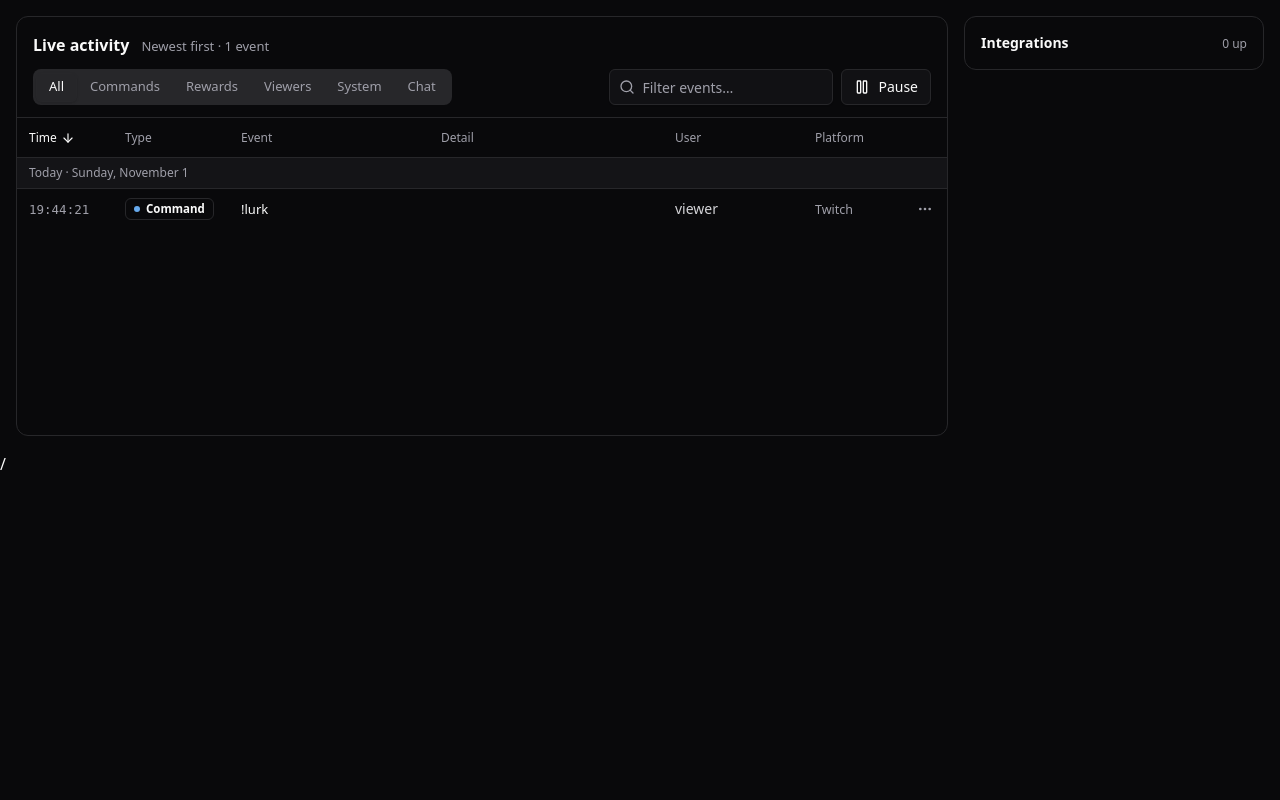
Live activity › opens History on an entry's viewer
What coordinates should you click on to do the following:
click the text "!lurk"
I would click on:
 (255, 209)
Its box is [241,200,268,218].
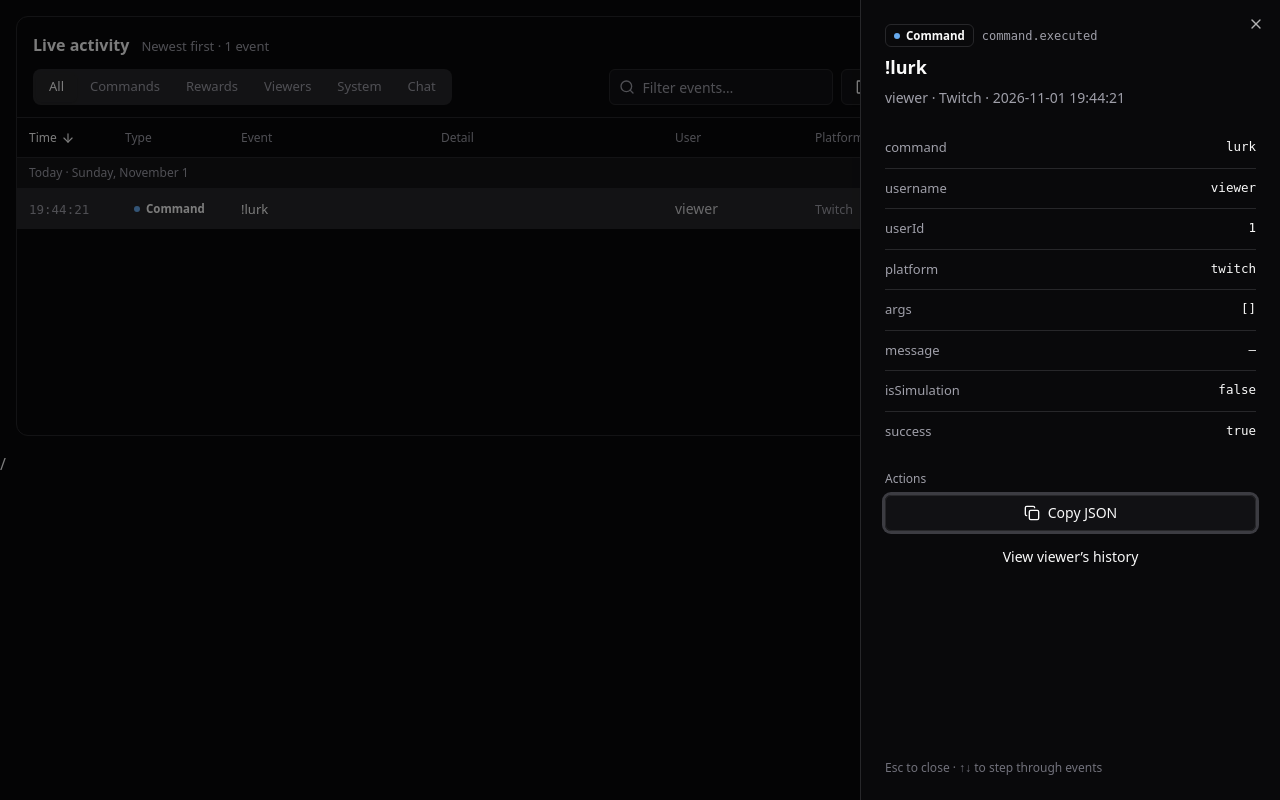
What coordinates should you click on to do the following:
click the button "View viewer’s history"
I would click on:
 (1070, 557)
Its box is [885,539,1256,575].
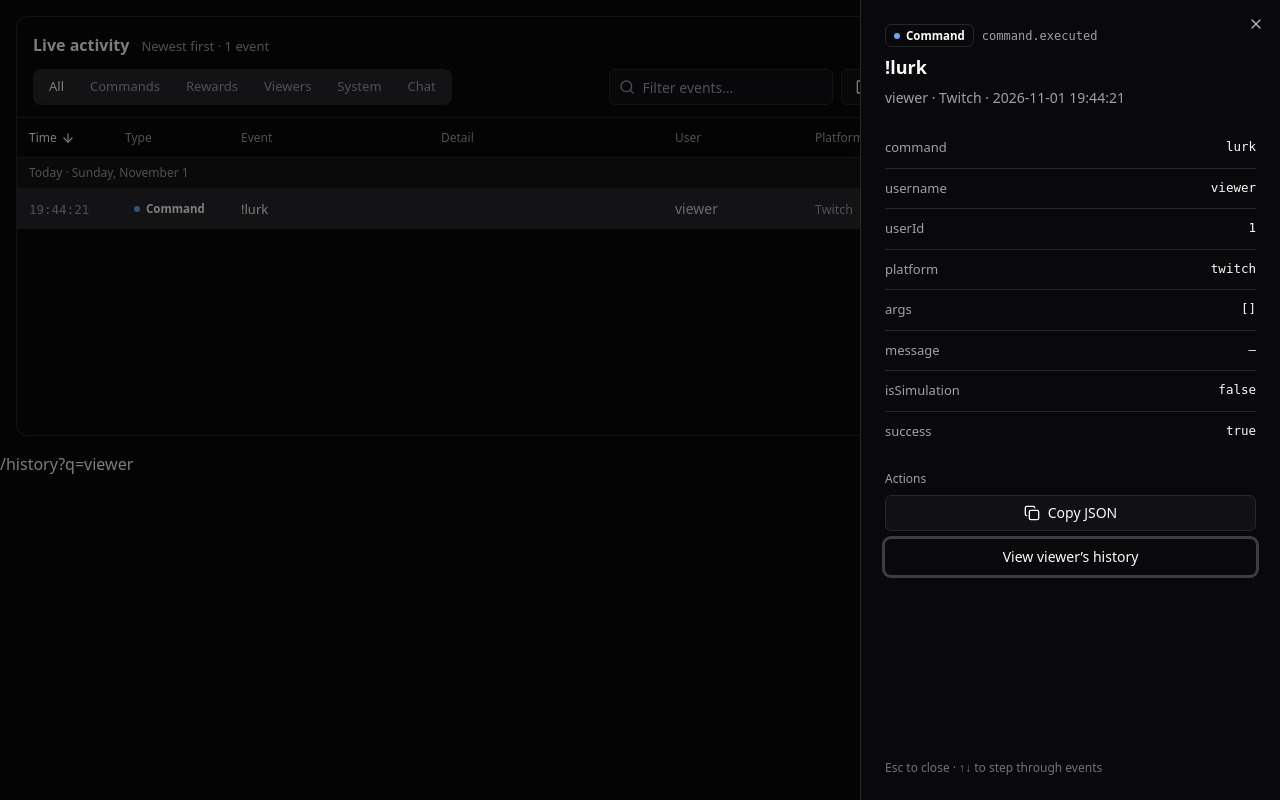
Expected: the text named "Current location" reads "/history?q=viewer", [0,453,133,475]
